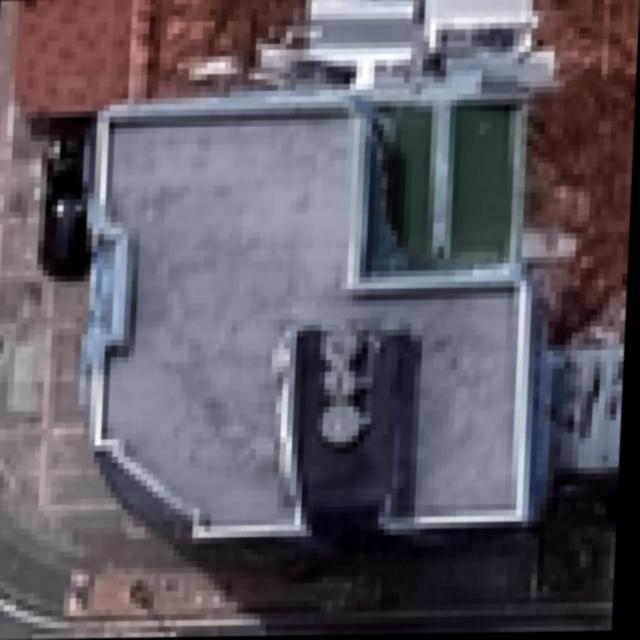Batiment: (87, 97, 533, 537), (255, 0, 423, 90), (424, 0, 531, 51)
